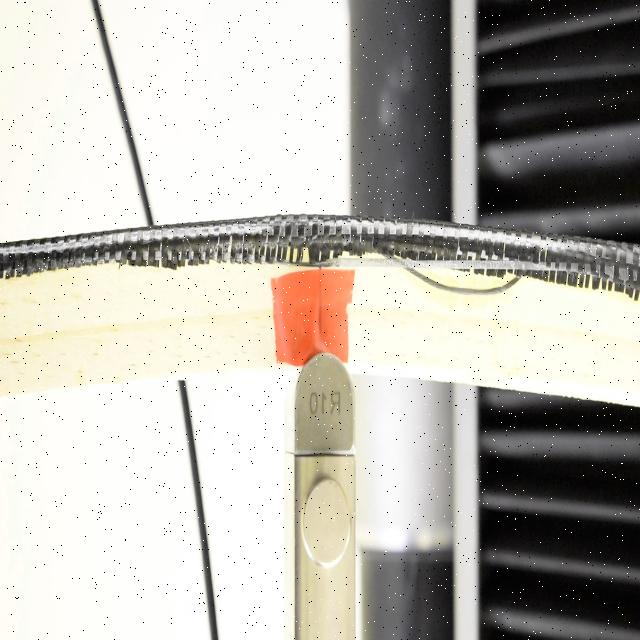wood: (3, 218, 636, 400)
